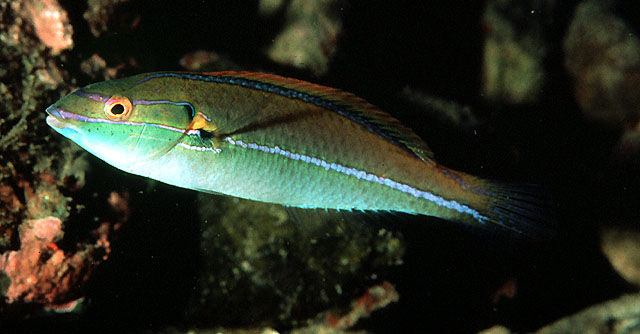fish: (44, 70, 538, 236)
